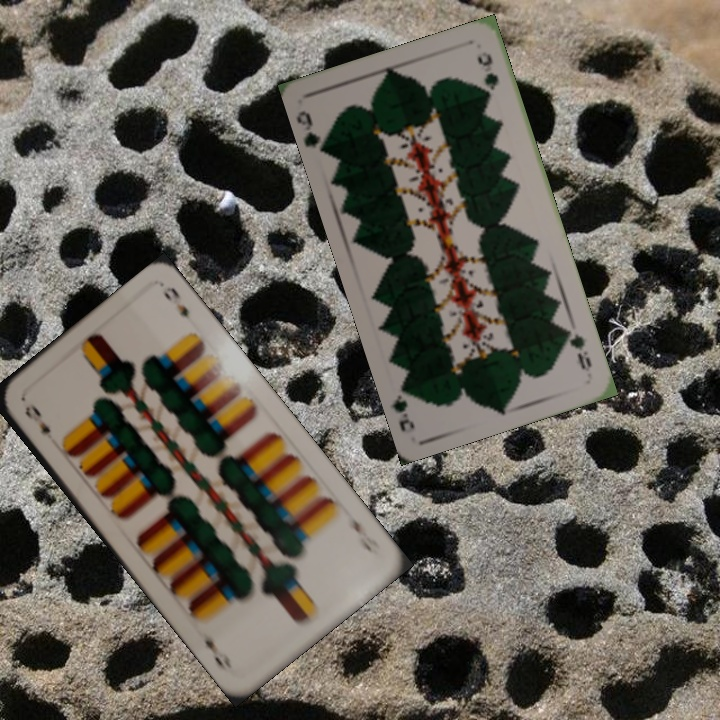E9: (345, 508, 384, 558), (20, 399, 54, 436)
G9: (294, 106, 331, 157), (559, 323, 595, 374)
